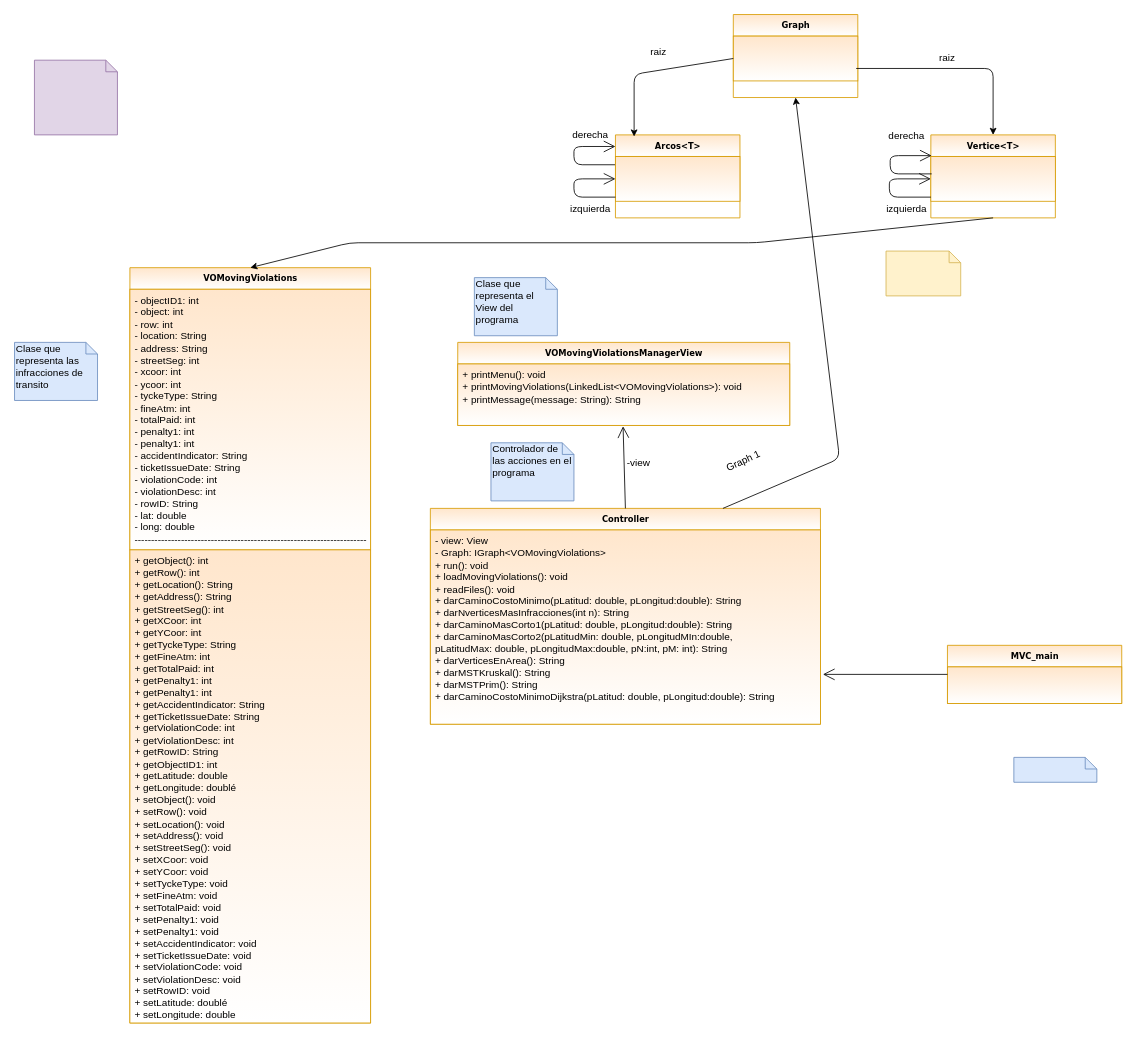
Some shapes in this 1136 by 1040 pixel diagram are drawn without their labels. The shapes that lost their labels are listed below. From the top down, each one's centre as x and y in pixels, then its label:
At (75,97): "Modelo UML Representa el diseño de la solución del proyecto 3".
At (923,273): "Estructuras de Datos".
At (1034,684): "+ static main(String[] args): void".
At (1055,769): "Clase del main".
